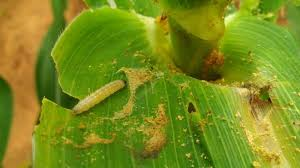Armyworm: (69, 66, 130, 123)
